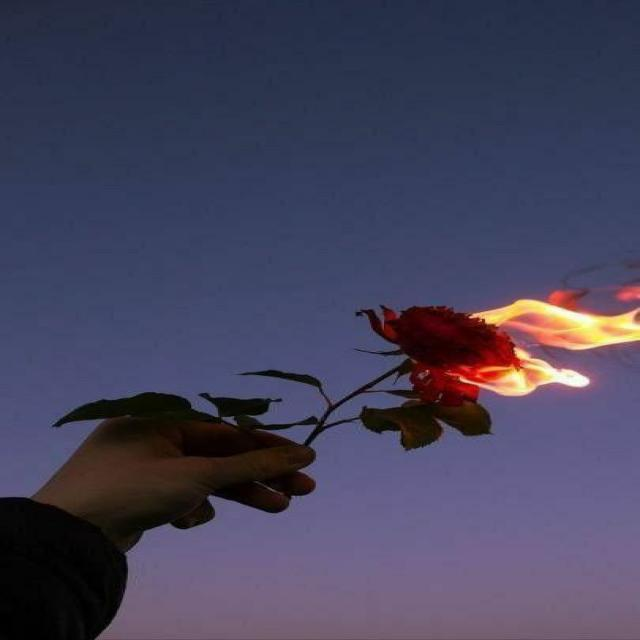Fire: (377, 287, 640, 398)
